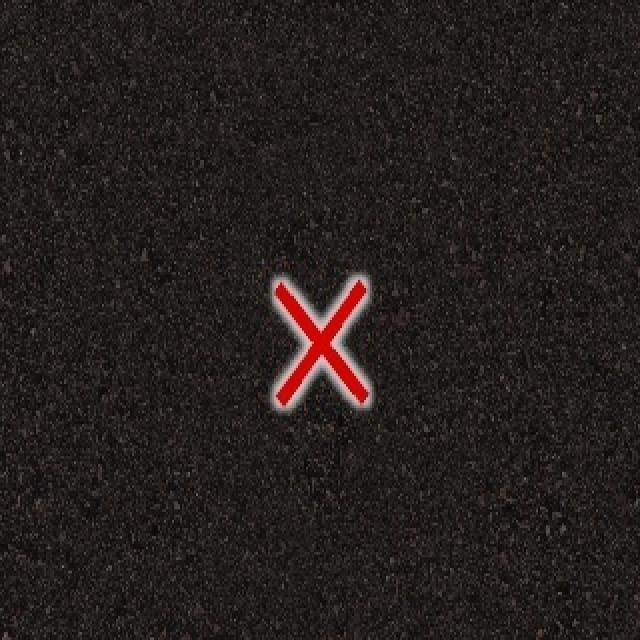x_marker: (275, 279, 367, 404)
